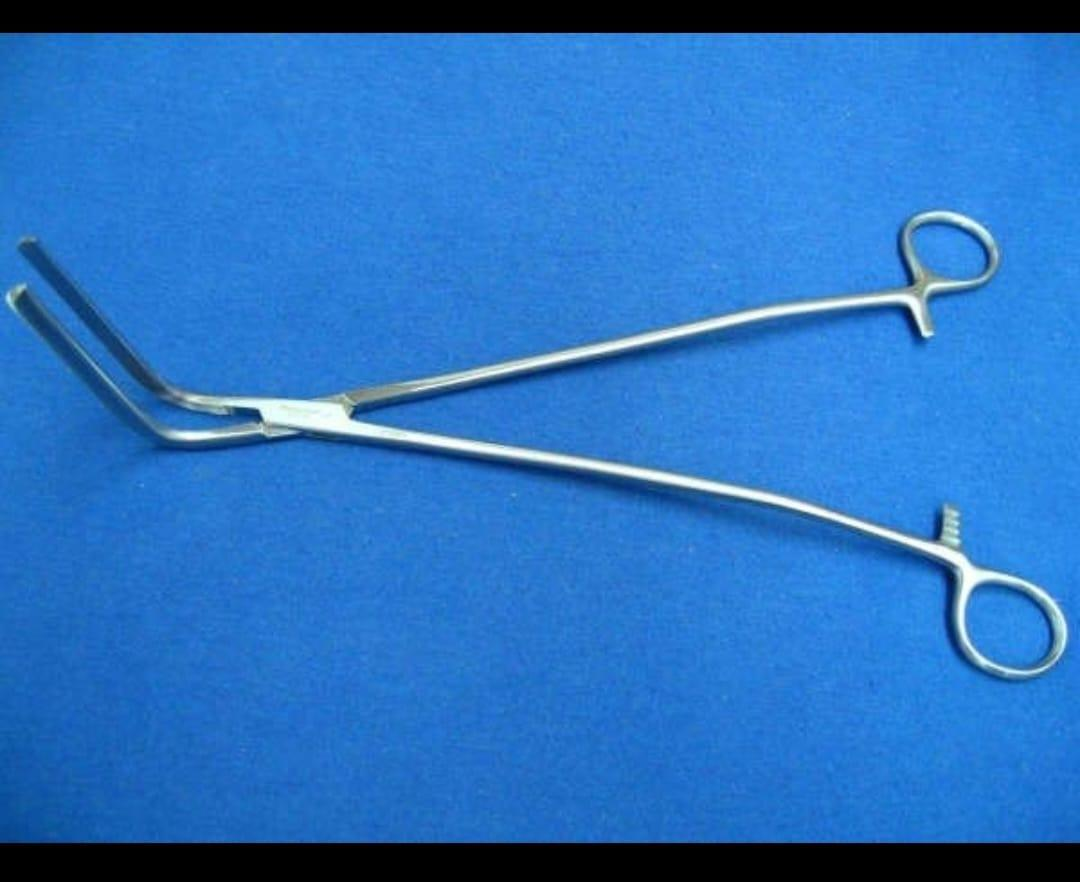Surgical blade: (6, 199, 1069, 688)
